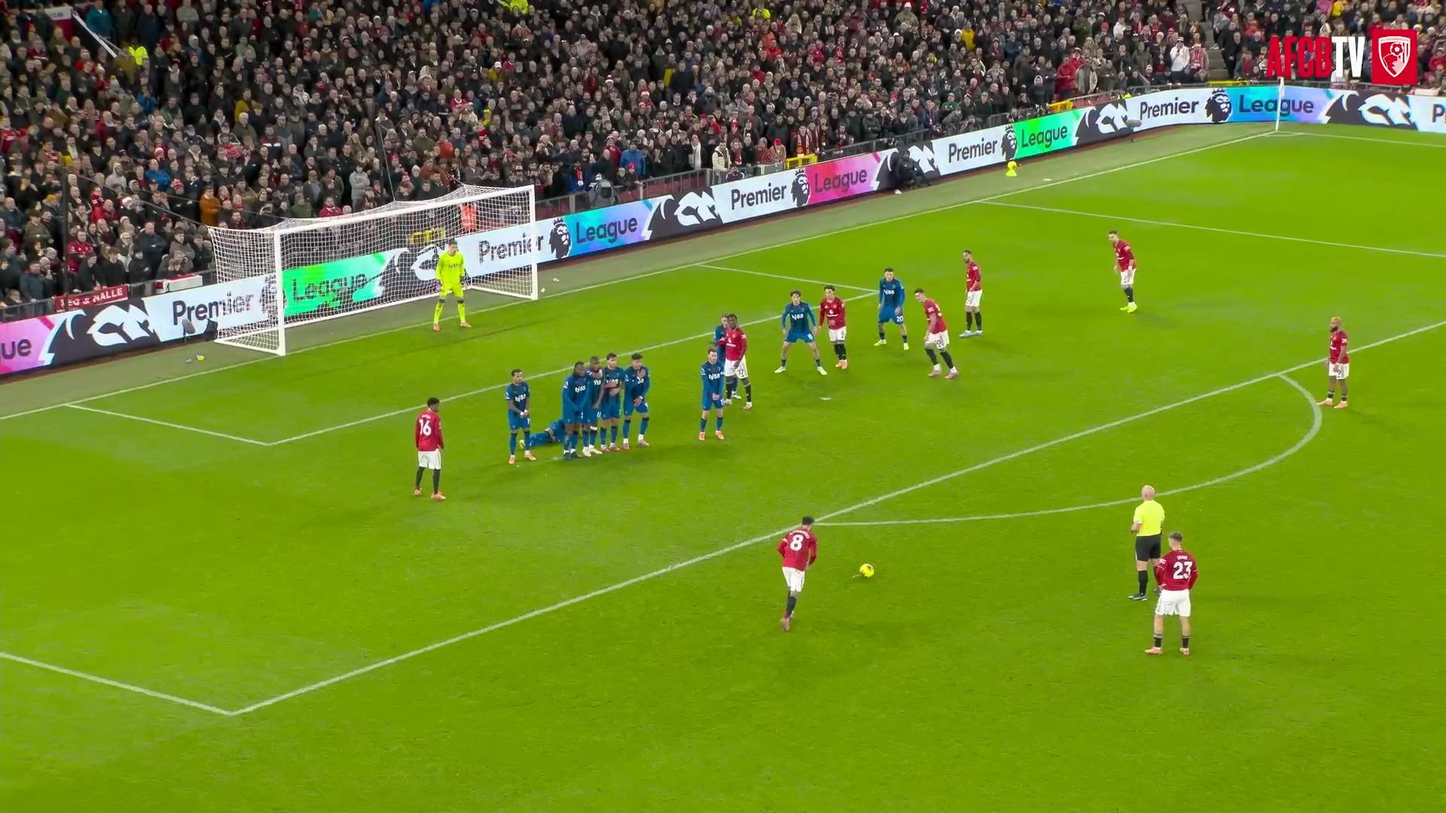football: (859, 563, 874, 577)
player: (1146, 531, 1197, 655), (778, 516, 816, 630), (775, 290, 825, 375), (914, 288, 958, 379), (433, 240, 470, 330), (413, 397, 445, 500), (722, 314, 752, 410), (505, 368, 535, 463), (874, 267, 908, 350), (1318, 316, 1349, 407), (621, 352, 650, 449), (698, 349, 725, 440), (599, 352, 624, 450), (563, 361, 588, 458), (581, 355, 604, 456), (1108, 230, 1136, 312), (819, 286, 846, 368), (959, 250, 981, 336), (526, 419, 565, 449), (712, 312, 730, 359)
referee: (1128, 485, 1164, 601)
